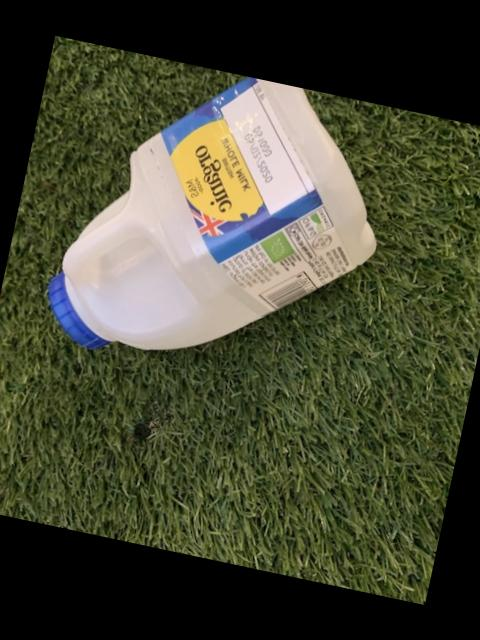plastic: (47, 76, 373, 347)
